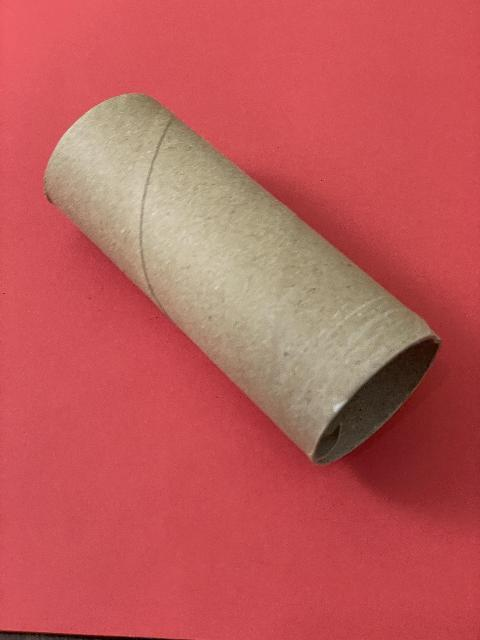tissueroll: (44, 92, 441, 464)
